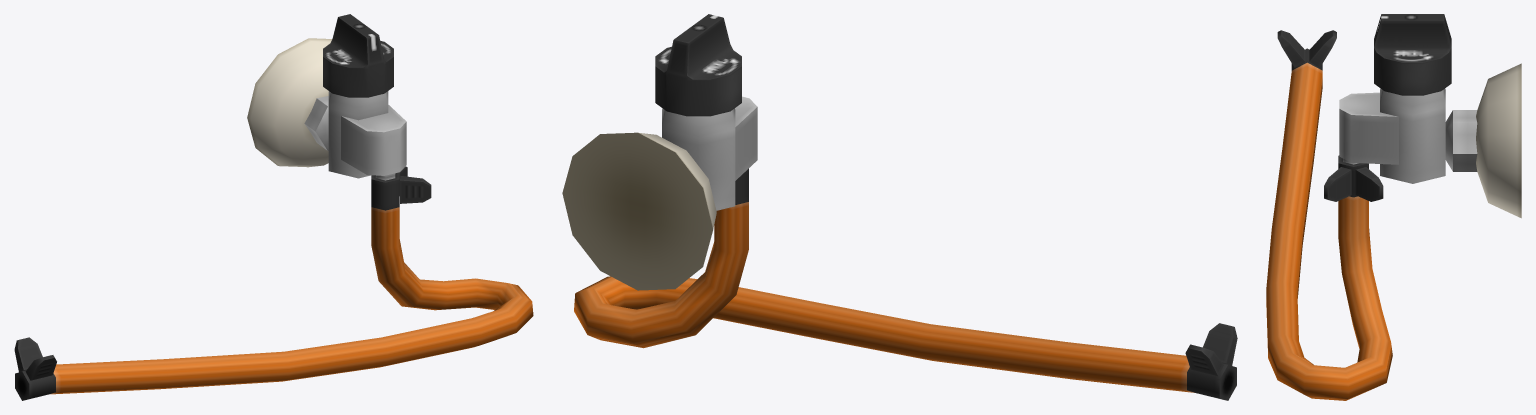
Rendered from KR_Counterobj_01_01.fbx.
The picture shows the model from 3 angles, left to right: view 1: azimuth 30°, elevation 25°; view 2: azimuth 150°, elevation 25°; view 3: azimuth 270°, elevation 25°; orthographic projection. The views are drawn at different scales.
Visible parts, largest first — view 1: KR_counterobj_01_01, valve; view 2: KR_counterobj_01_01, valve; view 3: KR_counterobj_01_01, valve.
Boxes of the visible parts, bbox=[...] form: KR_counterobj_01_01: bbox=[14, 38, 533, 400]; valve: bbox=[323, 14, 393, 97]; KR_counterobj_01_01: bbox=[562, 96, 1237, 400]; valve: bbox=[655, 14, 741, 116]; KR_counterobj_01_01: bbox=[1266, 30, 1521, 400]; valve: bbox=[1374, 14, 1451, 95].
Bounding box in the file's own units: 32.29 × 17.49 × 12.65.
